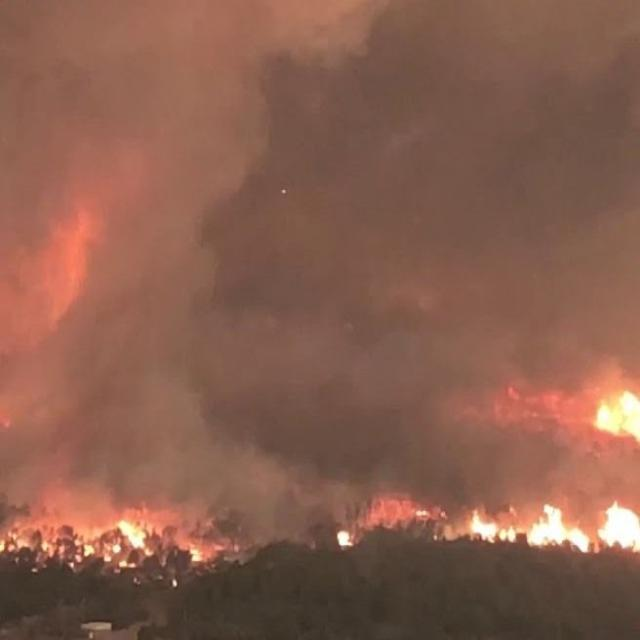Fire: (0, 368, 640, 558)
Smoke: (0, 0, 640, 526)
